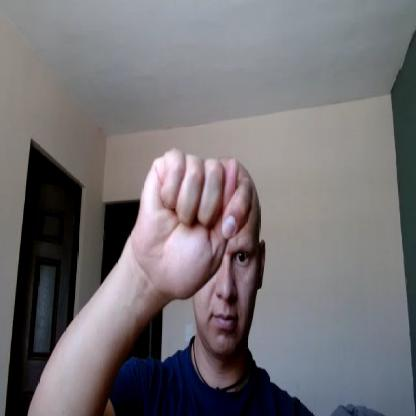T: (132, 150, 256, 300)
